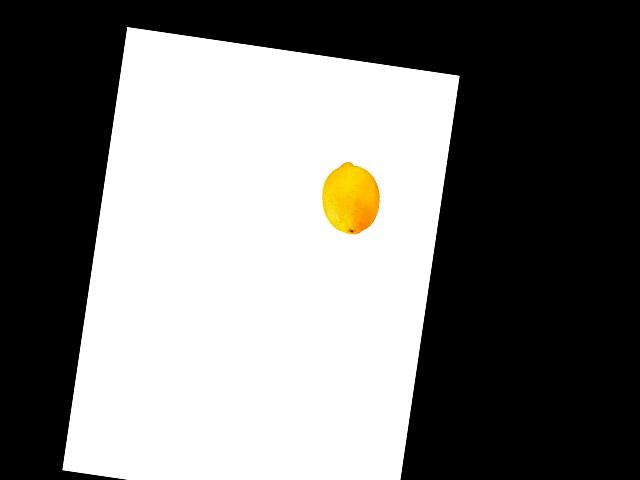lemon: (314, 157, 385, 238)
